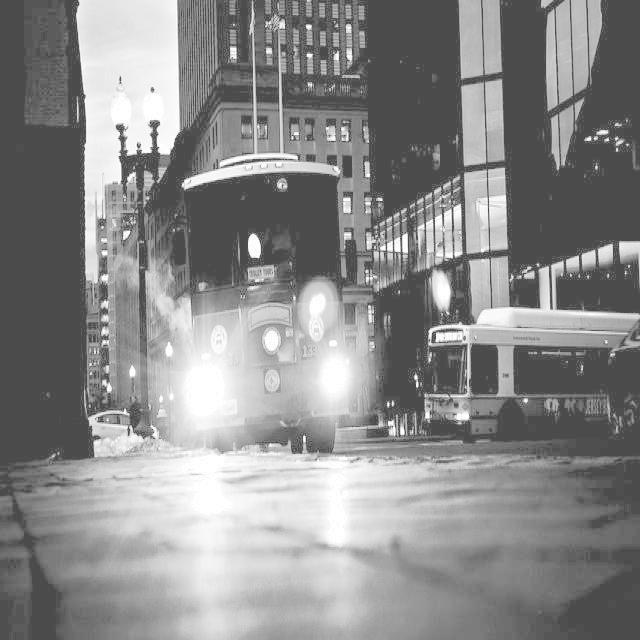Bus: (143, 142, 358, 446), (420, 267, 622, 423)
Car: (65, 391, 140, 462)
